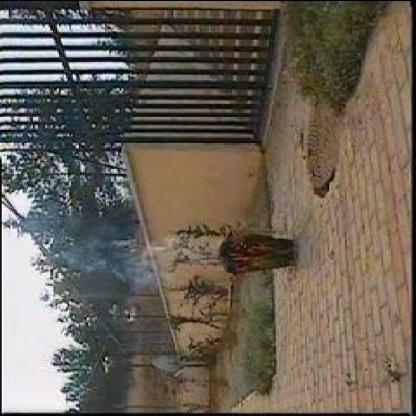-: (49, 227, 161, 284)
foggia-v2-map80-epoch100 - v1 4323: (232, 244, 265, 264)
